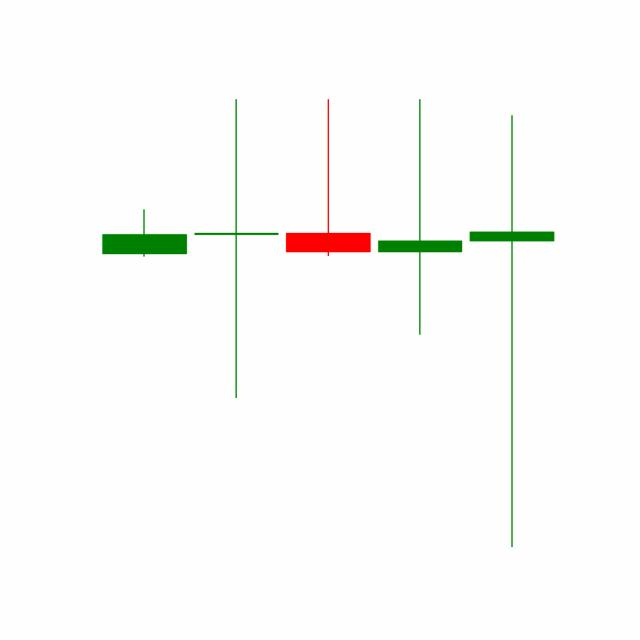Spinning Top: (373, 96, 467, 338)
